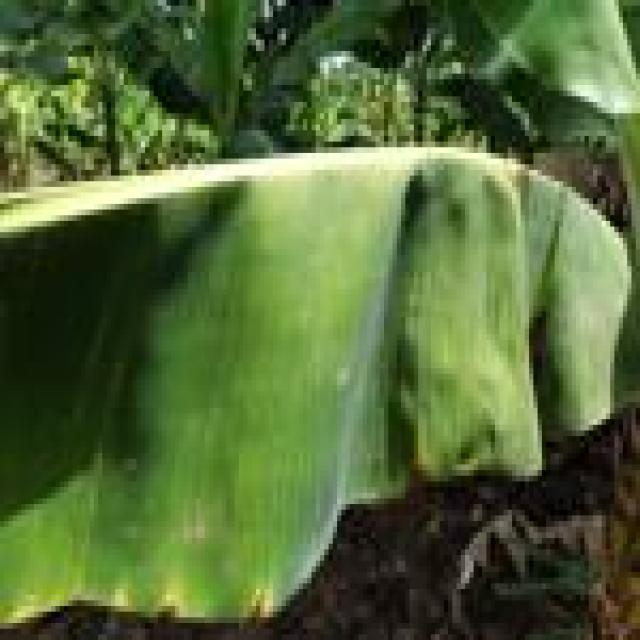Early_rust: (0, 515, 290, 640)
